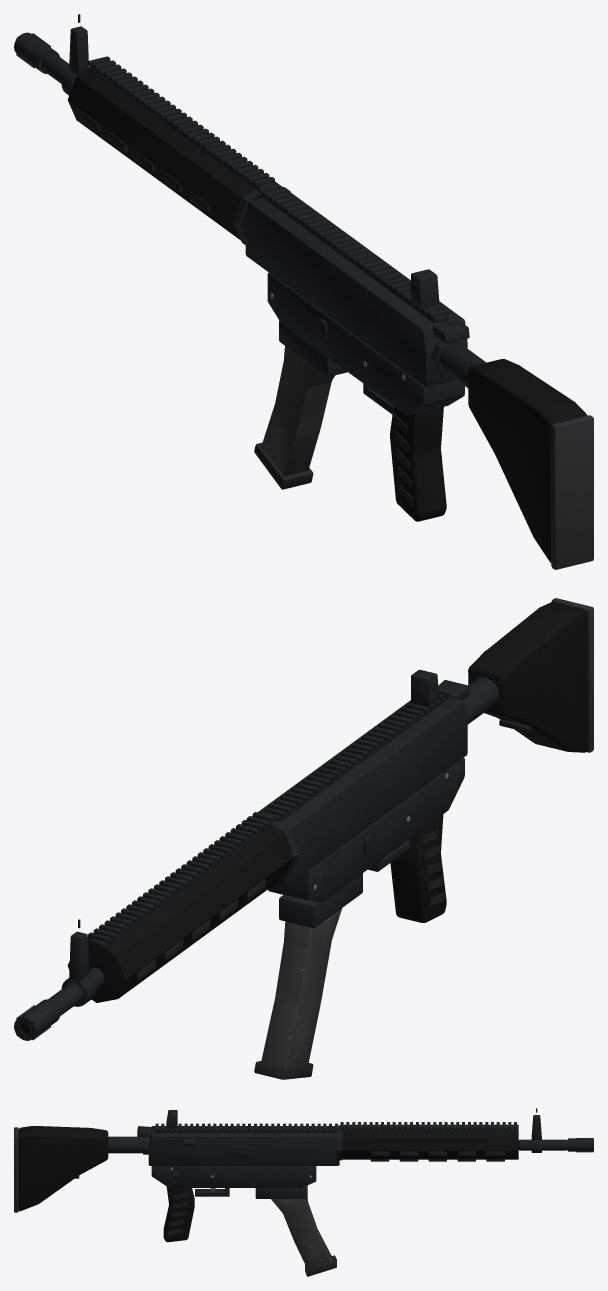
File: assault_rifle.glb
3 views of the same model, one above another, from view 1: azimuth 30°, elevation 25°; view 2: azimuth 150°, elevation 25°; view 3: azimuth 270°, elevation 25° (orthographic). The views are drawn at different scales.
Parts seen in each view (by area): view 1: assault_rifle; view 2: assault_rifle; view 3: assault_rifle.
Boxes of the visible parts, x1,y1,x2,y2 form: assault_rifle: [14, 14, 593, 569]; assault_rifle: [14, 598, 593, 1079]; assault_rifle: [14, 1108, 593, 1276].
Size of the model in its own units: 0.064 by 0.3145 by 1.
Materials: 7 (4 with a texture image).
